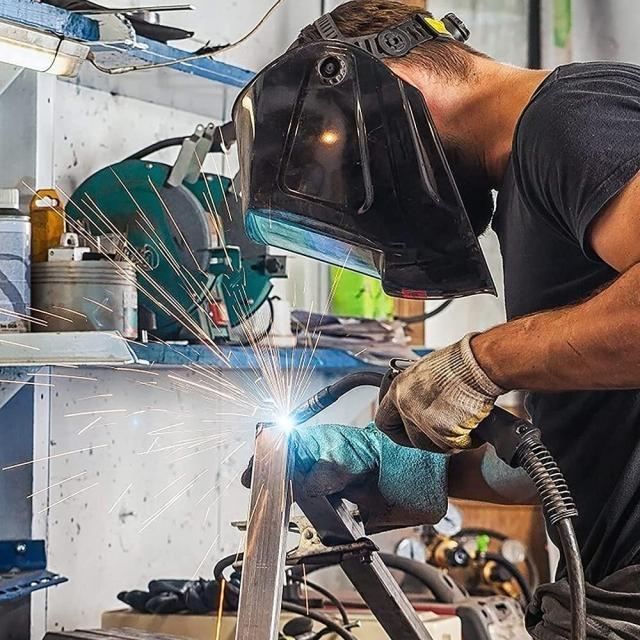with_helmet: (231, 13, 556, 300)
